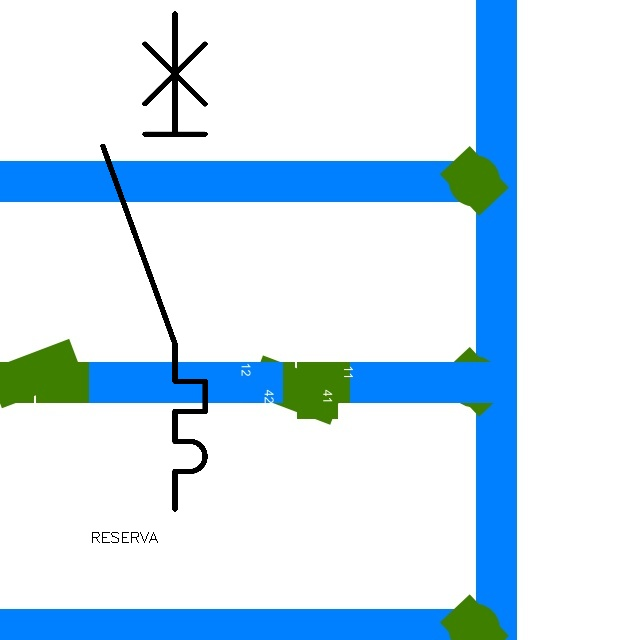interruptor_termomagnetico: (90, 1, 218, 522)
